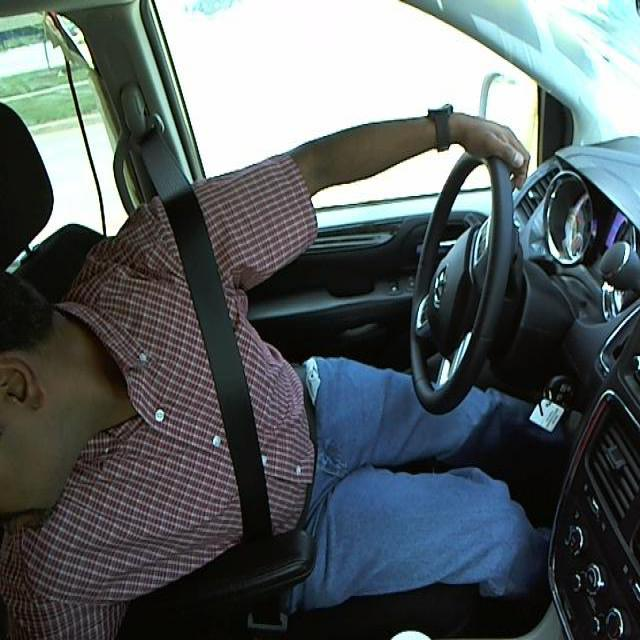seatbelt: (164, 203, 288, 540)
